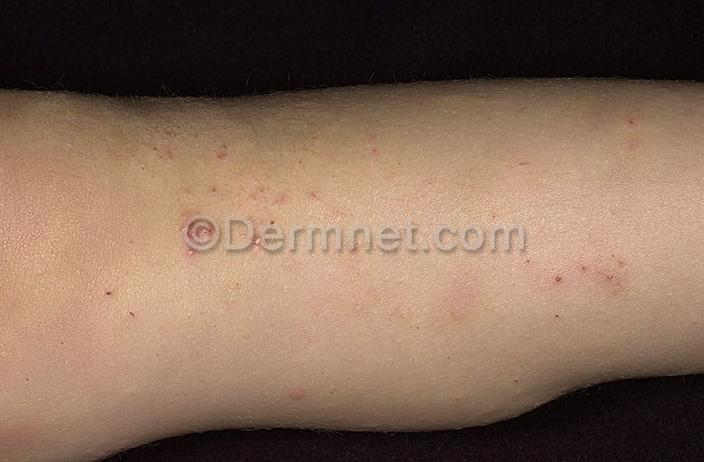exudacion 1: (149, 128, 327, 262)
xerosis 1: (113, 94, 256, 122)
